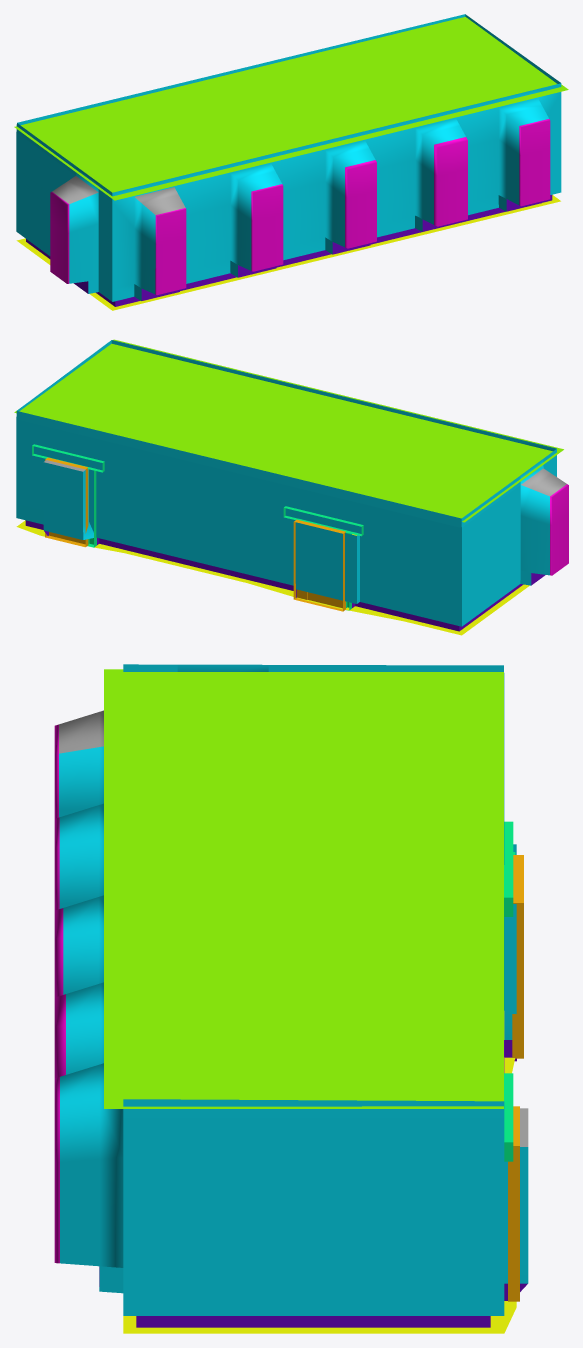
Rendered from MainGuard_TopFloor_UVs.fbx.
The picture shows the model from 3 angles, top to bottom: view 1: azimuth 30°, elevation 25°; view 2: azimuth 150°, elevation 25°; view 3: azimuth 270°, elevation 25°; orthographic projection. The views are drawn at different scales.
Parts seen in each view (by area): view 1: polySurface33, pPlane2, polySurface34; view 2: polySurface33, pPlane2, polySurface34, polySurface26, polySurface27; view 3: pPlane2, polySurface33, polySurface26, polySurface34, polySurface27, polySurface30.
Part boxes in pixels (bbox=[...]): polySurface33: bbox=[16, 14, 561, 306]; pPlane2: bbox=[14, 17, 568, 200]; polySurface34: bbox=[16, 195, 560, 310]; polySurface33: bbox=[16, 340, 568, 631]; pPlane2: bbox=[14, 339, 563, 522]; polySurface34: bbox=[16, 520, 529, 635]; polySurface26: bbox=[45, 457, 345, 611]; polySurface27: bbox=[283, 506, 363, 536]; pPlane2: bbox=[104, 669, 503, 1108]; polySurface33: bbox=[54, 664, 528, 1327]; polySurface26: bbox=[508, 855, 523, 1301]; polySurface34: bbox=[123, 1011, 516, 1333]; polySurface27: bbox=[504, 821, 513, 916]; polySurface30: bbox=[504, 1073, 513, 1161].
Size of the model in its own units: 1991 by 478 by 856.
